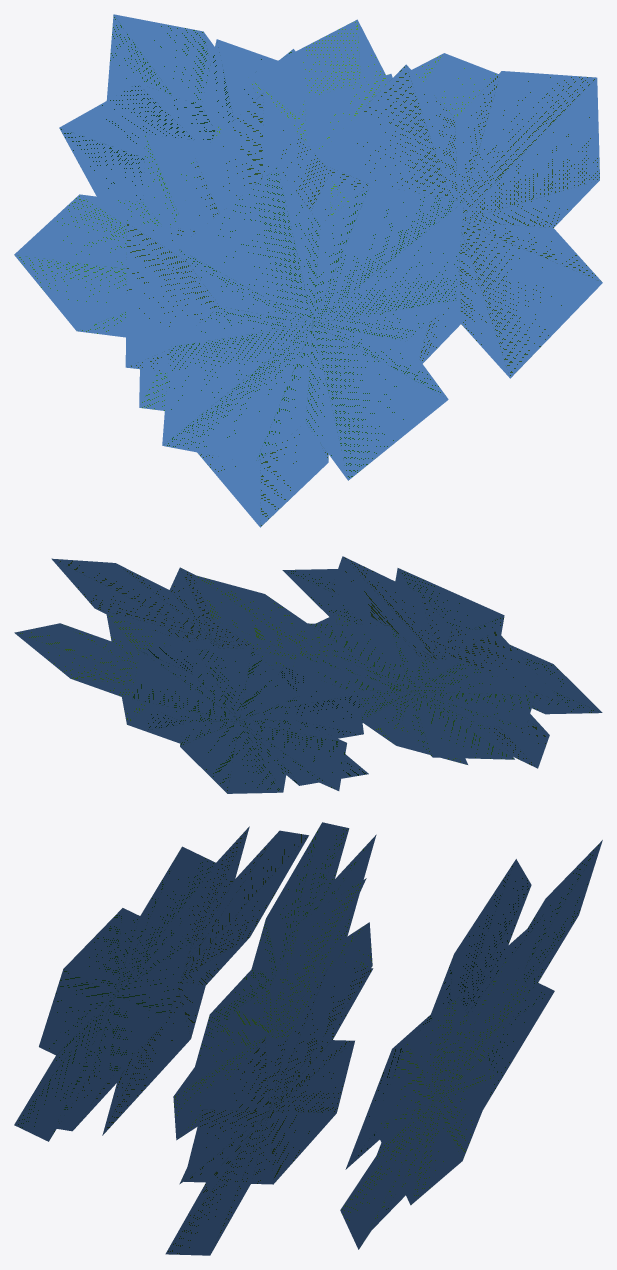
The model's file is SM_SpatialRunLeafBurst.fbx.
3 views of the same model, one above another, from view 1: azimuth 30°, elevation 25°; view 2: azimuth 150°, elevation 25°; view 3: azimuth 270°, elevation 25° (orthographic). The views are drawn at different scales.
Parts seen in each view (by area): view 1: SM_SpatialRunLeafBurst; view 2: SM_SpatialRunLeafBurst; view 3: SM_SpatialRunLeafBurst.
Boxes of the visible parts, x1,y1,x2,y2 form: SM_SpatialRunLeafBurst: (14,14,602,527); SM_SpatialRunLeafBurst: (14,556,602,793); SM_SpatialRunLeafBurst: (14,822,602,1255).
Bounding box in the file's own units: 25.53 × 19.67 × 13.19.
1 material, 1 textured.
